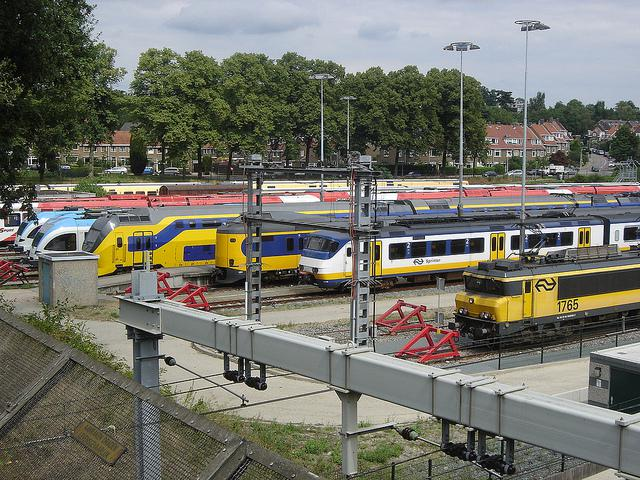Train: (299, 212, 640, 296), (448, 224, 640, 351), (23, 181, 640, 220), (92, 215, 240, 279), (213, 214, 311, 290), (159, 179, 468, 198), (14, 210, 130, 254), (16, 213, 90, 251), (9, 184, 166, 194), (33, 193, 97, 202)
